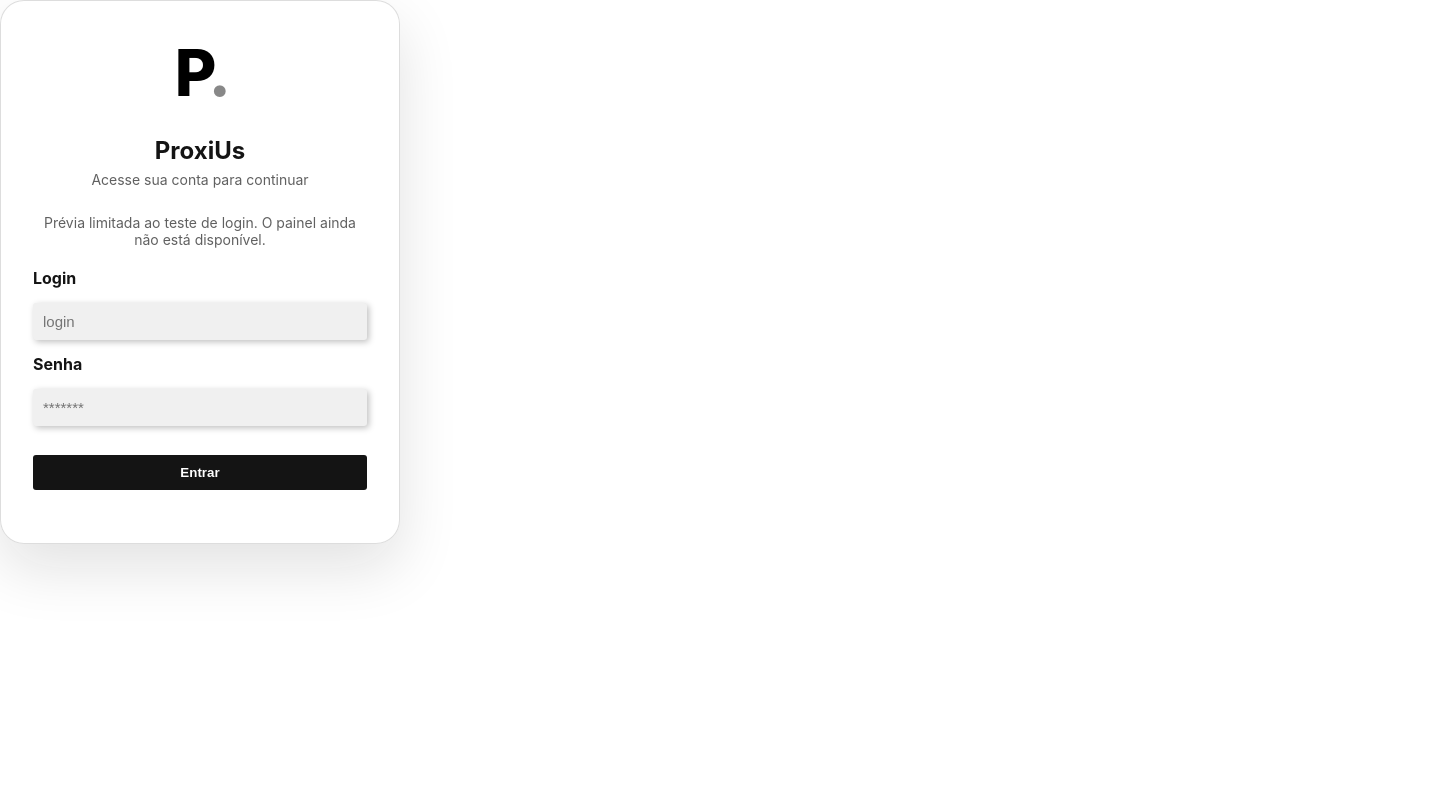
it: public login preview confirms credentials without creating a session
In the field with placeholder "login": (200, 322) [33,303,367,340], type "usuario"
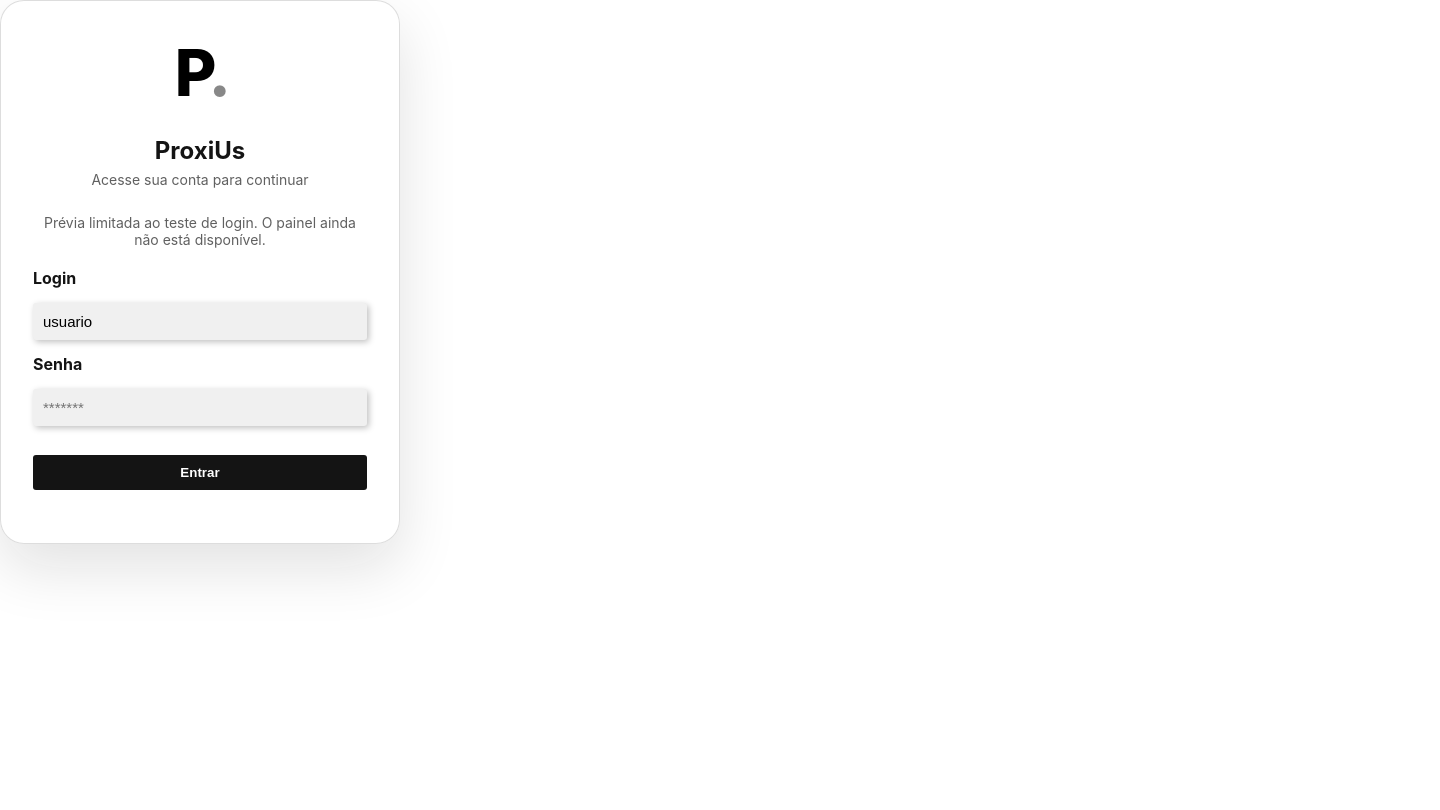
In the password field with placeholder "*******": (200, 408) [33,389,367,426], type "senha"
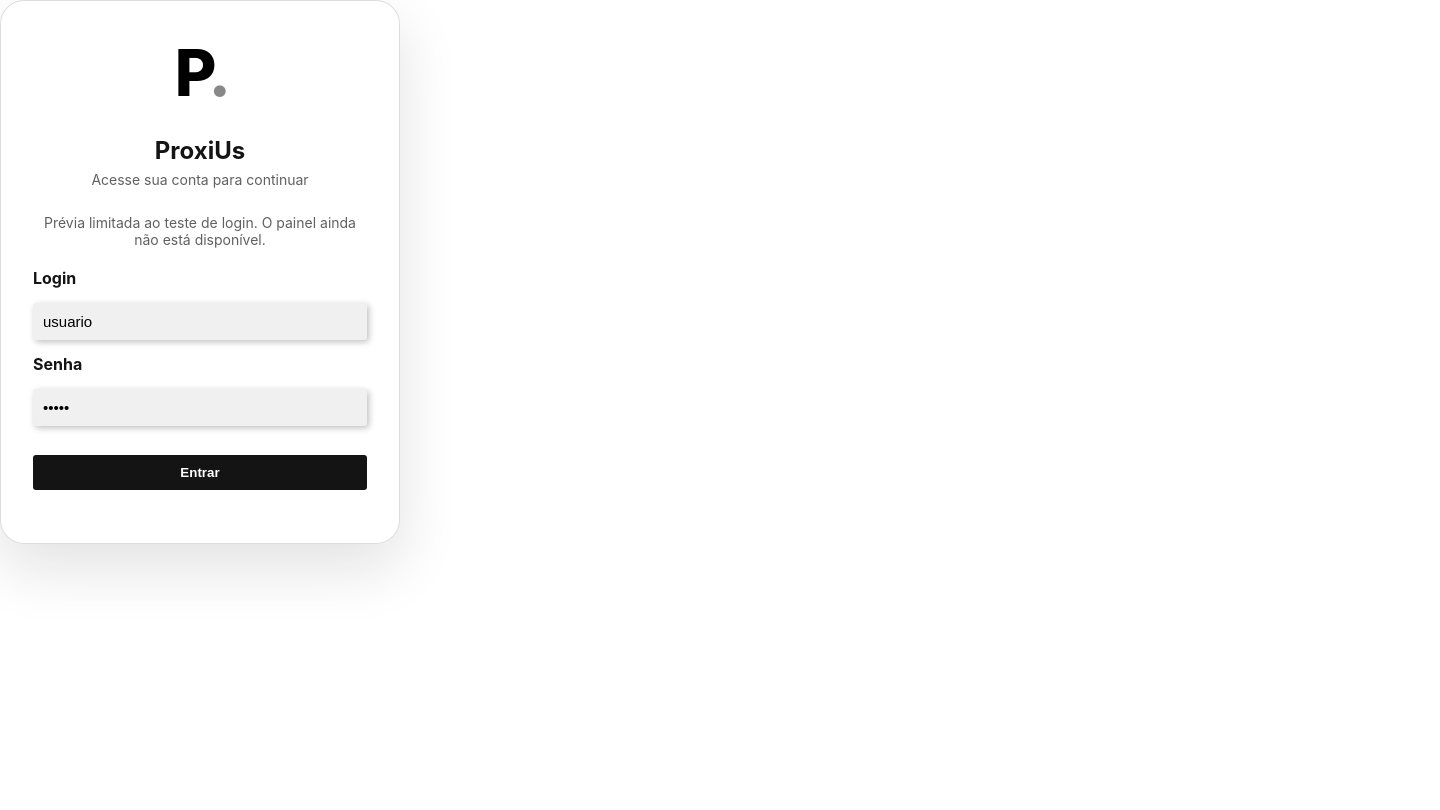
Expected: the text "Prévia limitada ao teste de login" is shown, [44,214,356,248]
Click the button "Entrar": (200, 472) [33,454,367,490]
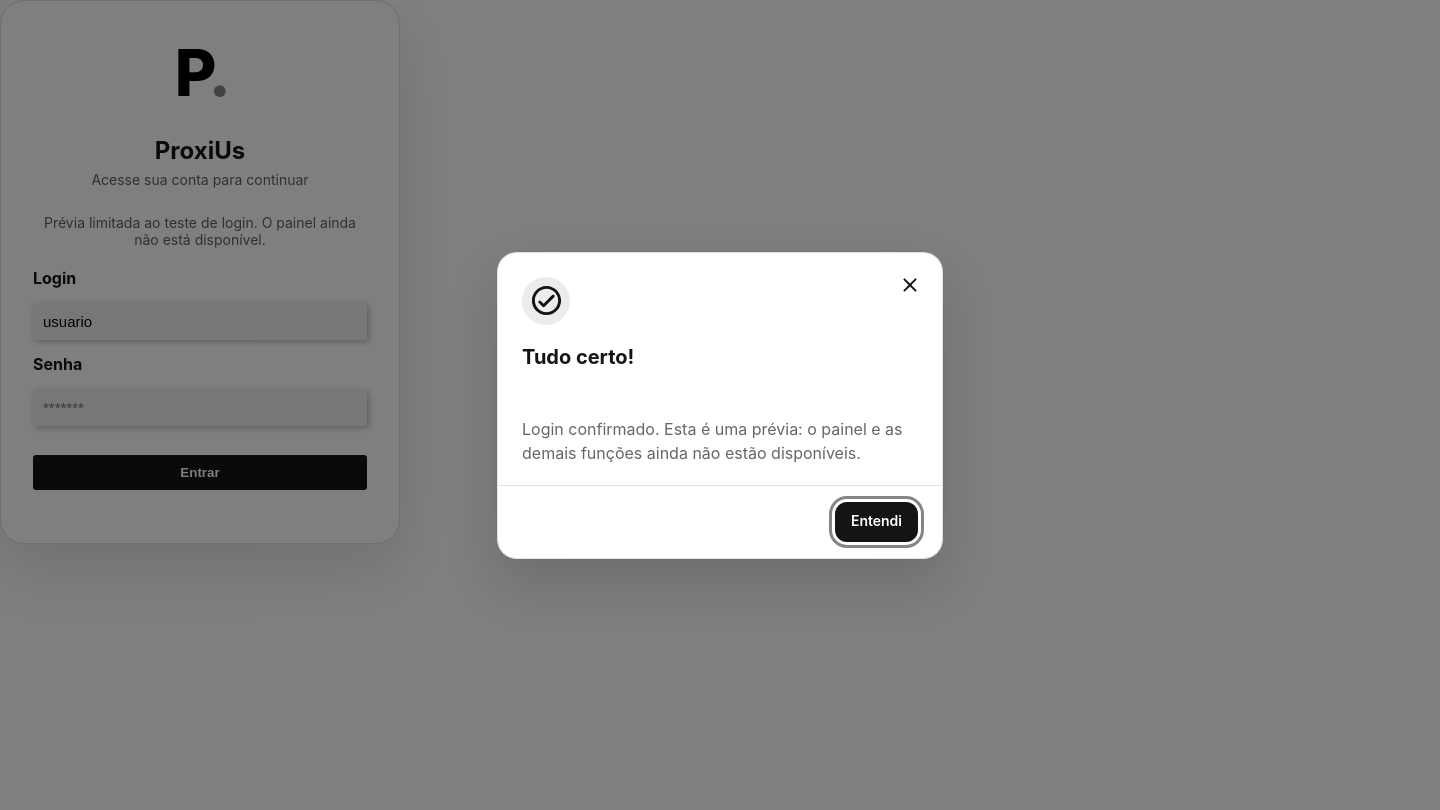
Expected: the text "Login confirmado" is shown, [522,418,907,462]
